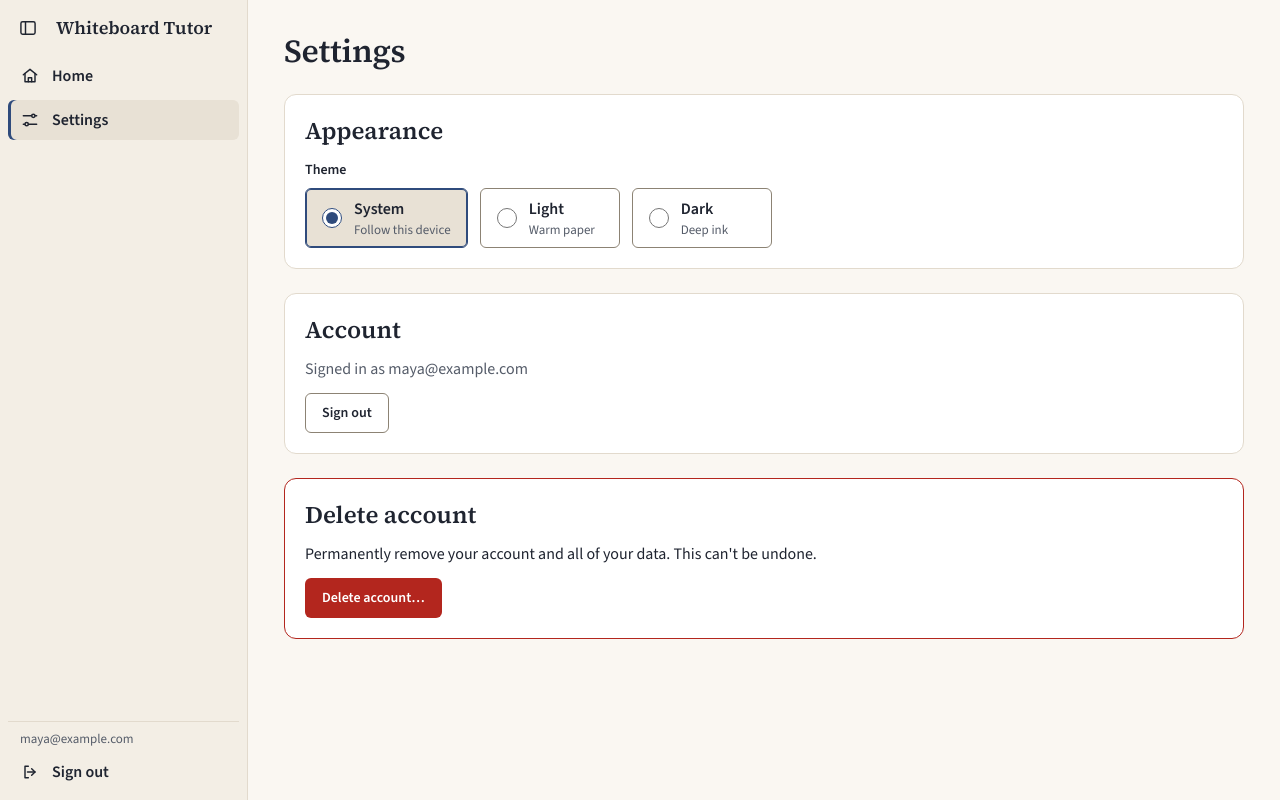
Scenario: delete account dialog › keeps the dialog open and shows the message on a wrong password
Click the button "Delete account…" at (373, 598), box top-left (305, 578), bottom-right (442, 618)
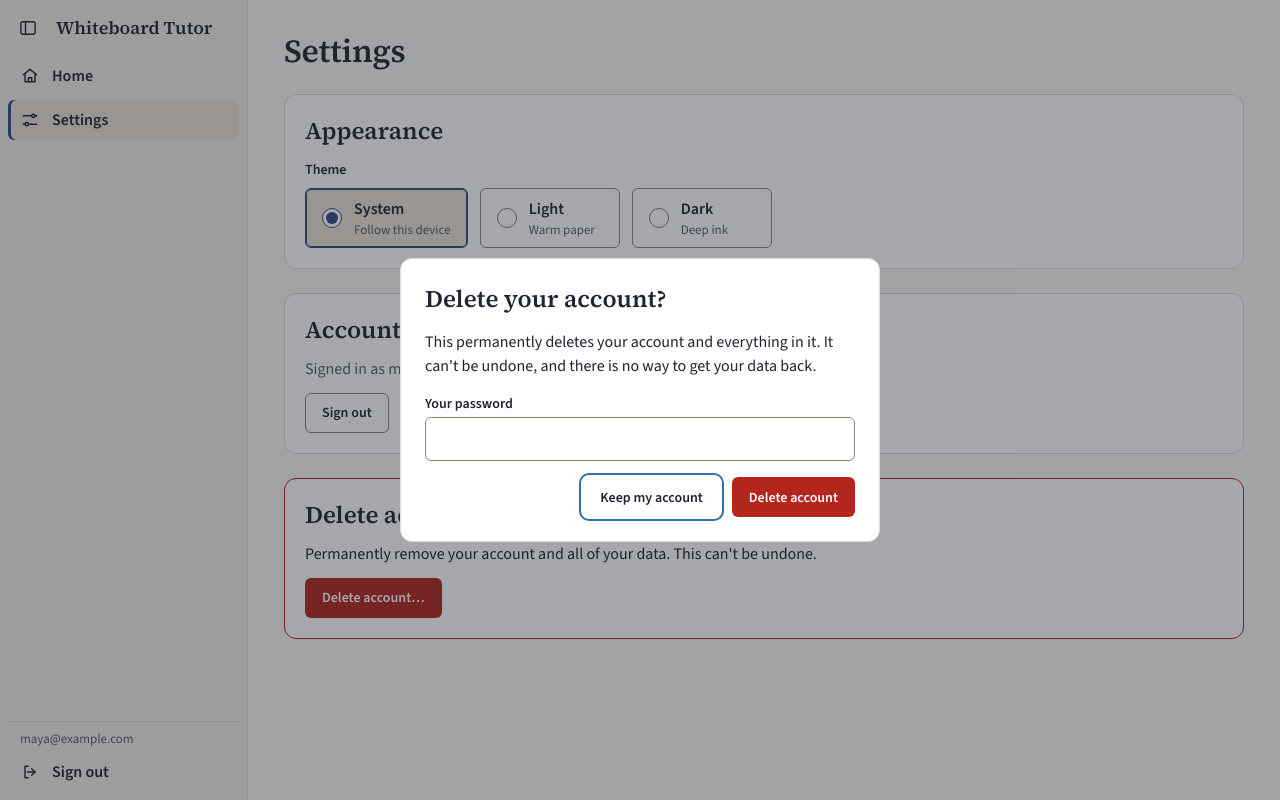
Type "wrong password" into the password field labelled "Your password" at (640, 439), box top-left (425, 417), bottom-right (855, 461)
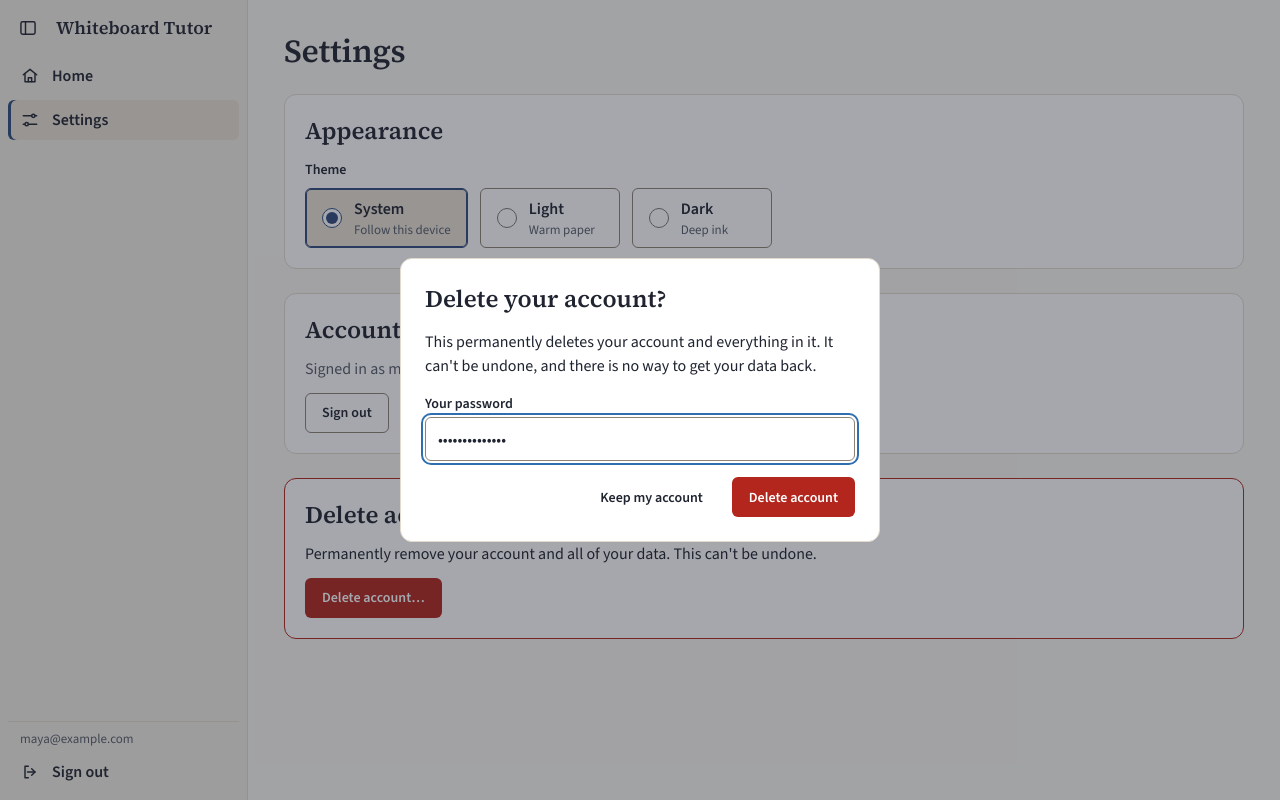
Click the button "Delete account" at (793, 497), box top-left (732, 477), bottom-right (855, 517)
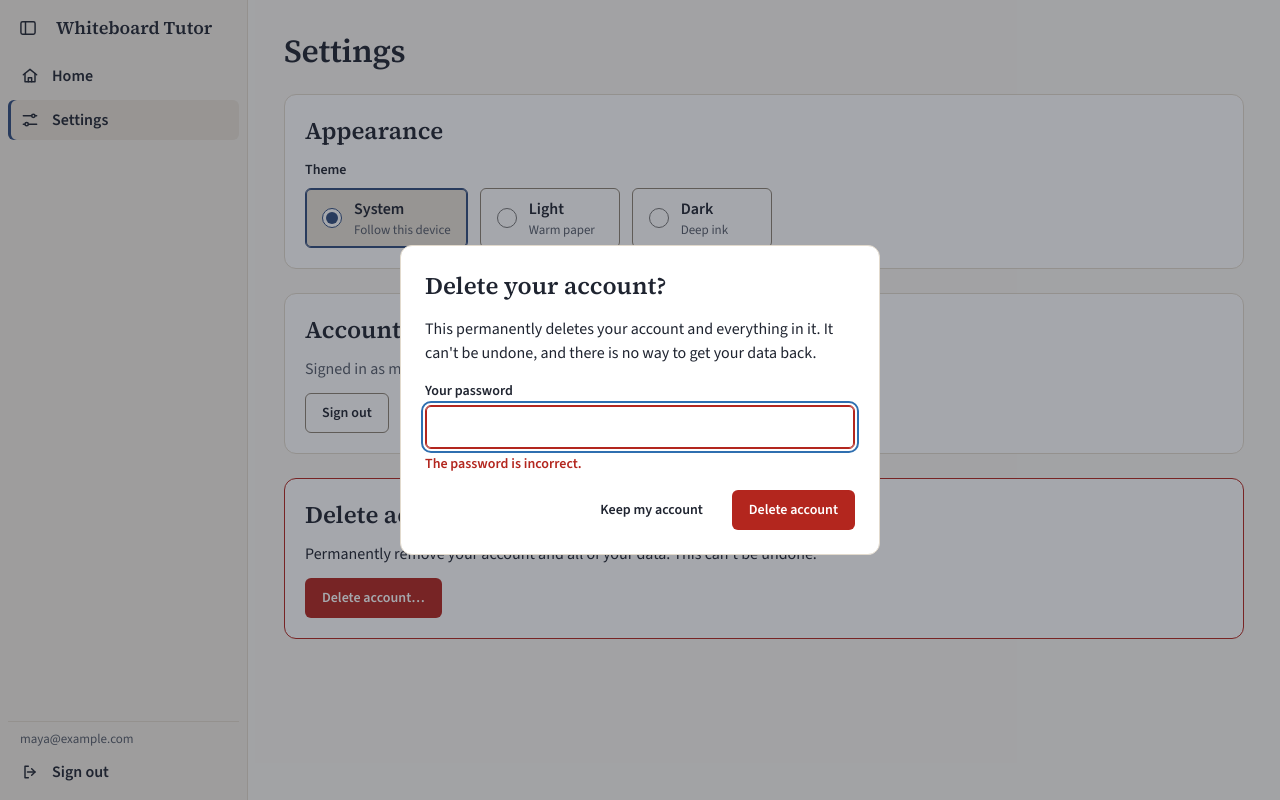
Expected: the dialog is shown, top-left (400, 245), bottom-right (880, 555)
Expected: the text "The password is incorrect." is shown, top-left (425, 454), bottom-right (582, 473)
